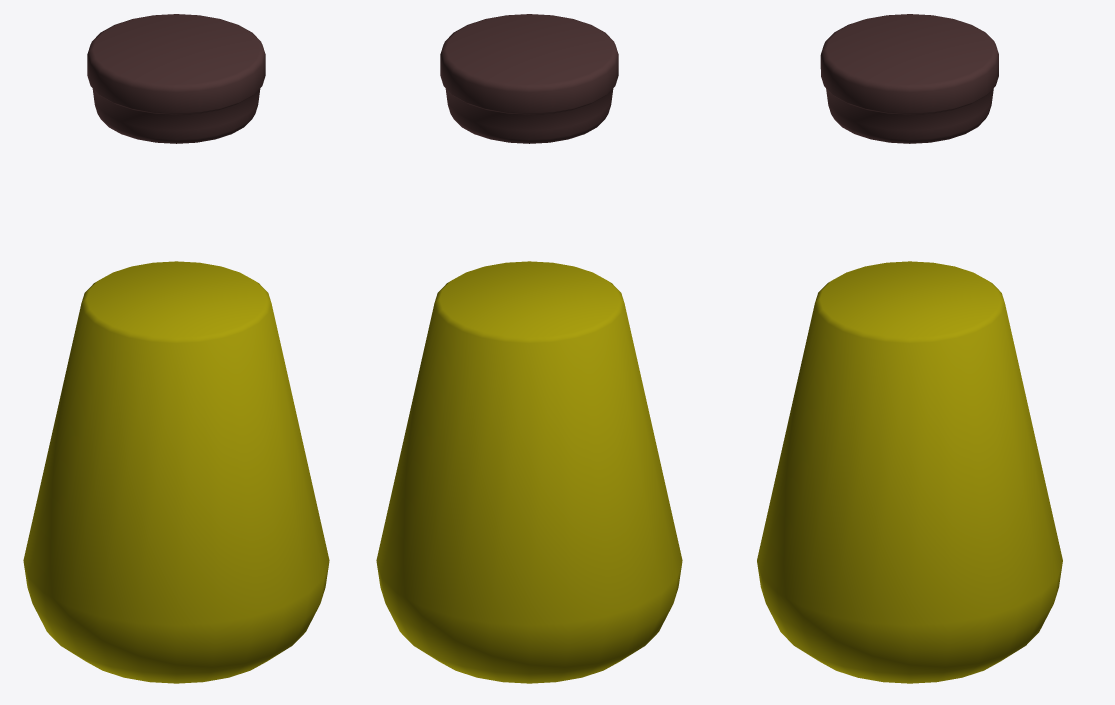
File: Minyak Goreng.fbx
The picture shows the model from 3 angles, left to right: view 1: azimuth 30°, elevation 25°; view 2: azimuth 150°, elevation 25°; view 3: azimuth 270°, elevation 25°; orthographic projection.
Parts seen in each view (by area): view 1: Carian Minyak Goreng, Botol Minyak Goreng; view 2: Carian Minyak Goreng, Botol Minyak Goreng; view 3: Carian Minyak Goreng, Botol Minyak Goreng.
Boxes of the visible parts, left/top/right/bottom form: Carian Minyak Goreng: left=23, top=261, right=329, bottom=683; Botol Minyak Goreng: left=87, top=14, right=265, bottom=143; Carian Minyak Goreng: left=376, top=261, right=682, bottom=683; Botol Minyak Goreng: left=440, top=14, right=618, bottom=143; Carian Minyak Goreng: left=757, top=261, right=1062, bottom=683; Botol Minyak Goreng: left=820, top=14, right=998, bottom=143.
Size of the model in its own units: 12.36 by 25.32 by 14.46.
Materials: 2 (2 with a texture image).
